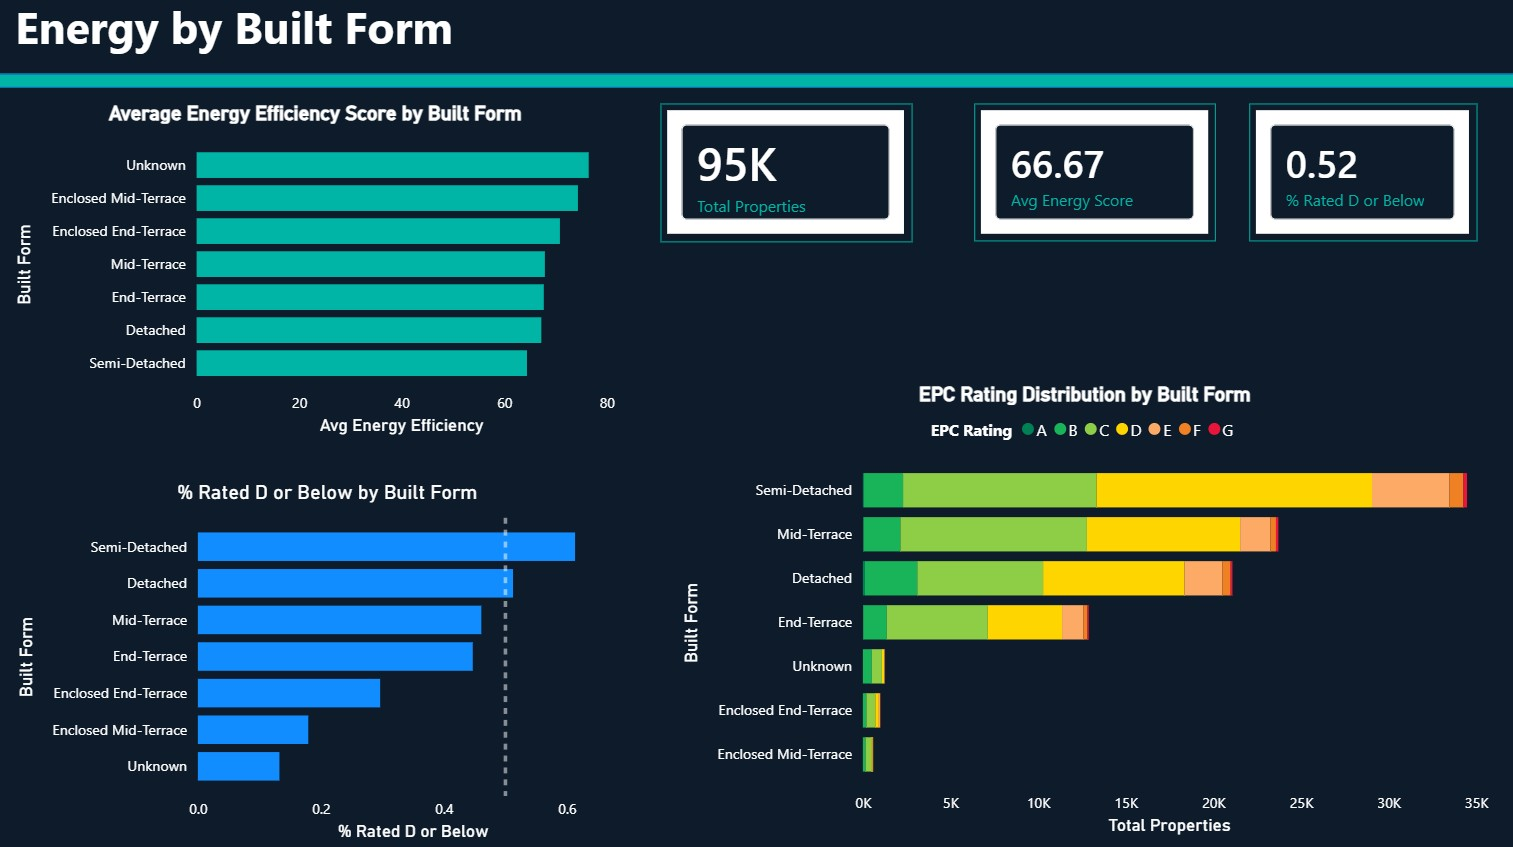

The page's visual inventory and layout, read from the dashboard file:
{"tool":"powerbi","page":{"name":"Energy by Built Form","canvas":[1280,720],"ordinal":5},"visuals":[{"type":"textbox","box":[9.5,0,1248,93.3],"z":0},{"type":"shape","box":[0,69,1280.5,12.2],"z":1000},{"type":"clusteredBarChart","title":"Average Energy Efficiency Score by Built Form","fields":{"Category":["Dim_BuiltForm.BUILT_FORM"],"Y":["_Measures.Avg Energy Efficiency"]},"box":[9.7,92.5,514.8,286],"z":2000},{"type":"barChart","title":"EPC Rating Distribution by Built Form","fields":{"Category":["Dim_BuiltForm.BUILT_FORM"],"Y":["_Measures.Total Properties"],"Series":["Dim_EnergyRating.CURRENT_ENERGY_RATING"]},"box":[569.5,328.6,688.8,385.8],"z":3000},{"type":"barChart","title":"% Rated D or Below by Built Form","fields":{"Category":["Dim_BuiltForm.BUILT_FORM"],"Y":["_Measures.% Rated D or Below"]},"box":[10,411,533,309],"z":4000},{"type":"cardVisual","fields":{"Data":["_Measures.Total Properties"]},"box":[557.4,94.9,211.8,116.8],"z":5000},{"type":"cardVisual","fields":{"Data":["_Measures.Avg Energy Score"]},"box":[820.9,94.2,203.5,116.3],"z":6000},{"type":"cardVisual","fields":{"Data":["_Measures.% Rated D or Below"]},"box":[1052.3,94.2,191.9,116.3],"z":7000}]}

Visuals, with their boxes in screenshot pixels (x1, y1, x2, y2), scaled from the page's 1280x720 canvas onto the 1513x847 screenshot:
textbox: BBox(11, 0, 1486, 110)
shape: BBox(0, 81, 1512, 96)
"Average Energy Efficiency Score by Built Form" clusteredBarChart: BBox(11, 109, 620, 445)
"EPC Rating Distribution by Built Form" barChart: BBox(673, 387, 1487, 840)
"% Rated D or Below by Built Form" barChart: BBox(12, 483, 642, 846)
cardVisual - _Measures.Total Properties: BBox(659, 112, 909, 249)
cardVisual - _Measures.Avg Energy Score: BBox(970, 111, 1211, 248)
cardVisual - _Measures.% Rated D or Below: BBox(1244, 111, 1471, 248)
